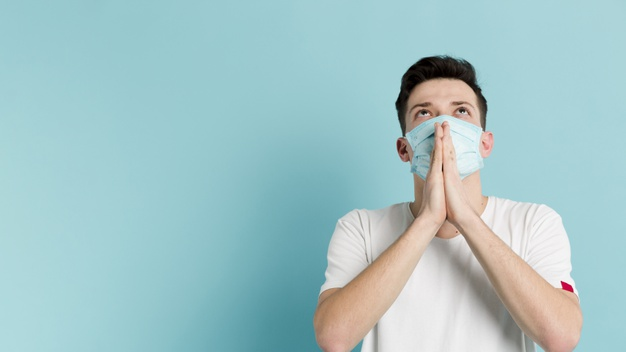with_mask: (385, 60, 506, 202)
